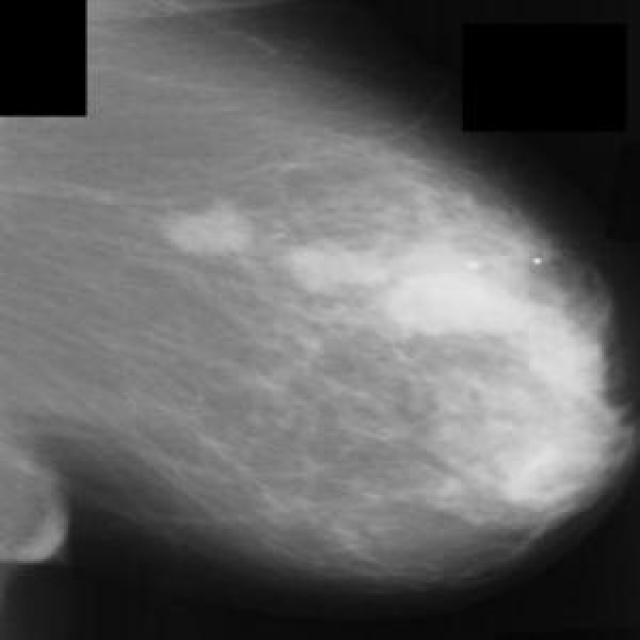tumor: (308, 216, 622, 492), (162, 182, 267, 276)
